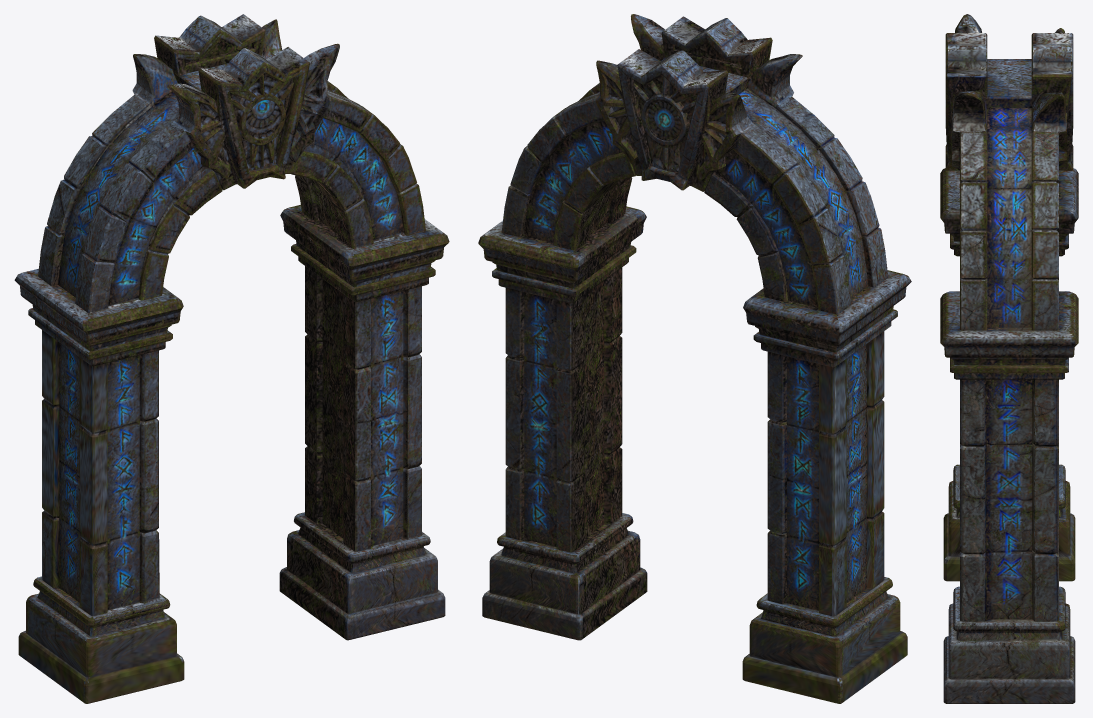
Rendered from Niflheim_Rune_Entrance.glb.
3 renders of one model, left to right at view 1: azimuth 30°, elevation 25°; view 2: azimuth 150°, elevation 25°; view 3: azimuth 270°, elevation 25°, orthographic. The views are drawn at different scales.
Visible parts, largest first — view 1: part_0000.001; view 2: part_0000.001; view 3: part_0000.001.
Part boxes in pixels (left/top/right/bottom): part_0000.001: left=14, top=14, right=449, bottom=703; part_0000.001: left=478, top=14, right=911, bottom=703; part_0000.001: left=940, top=14, right=1078, bottom=703.
Size of the model in its own units: 3.02 by 4.7 by 1.02.
Materials: 1 (1 with a texture image).
